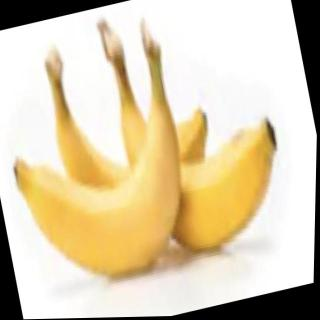banana: (1, 93, 206, 300), (110, 63, 300, 270), (48, 80, 227, 240)
